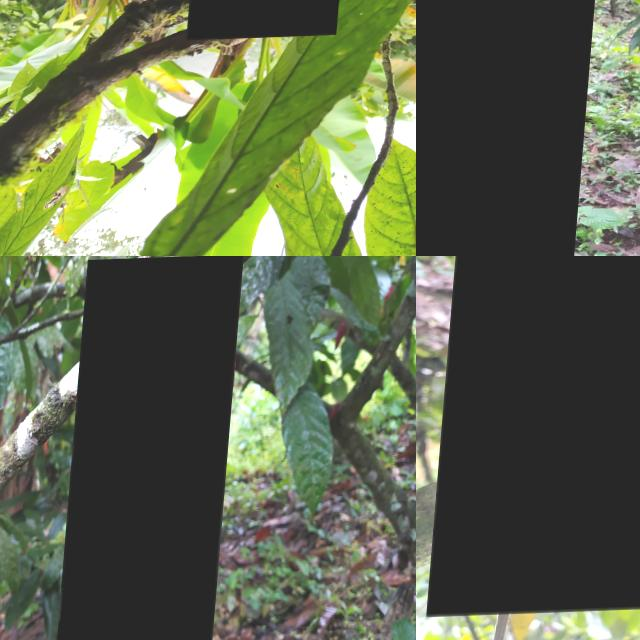Monilia: (436, 256, 640, 617), (60, 257, 246, 640), (416, 0, 603, 256)
